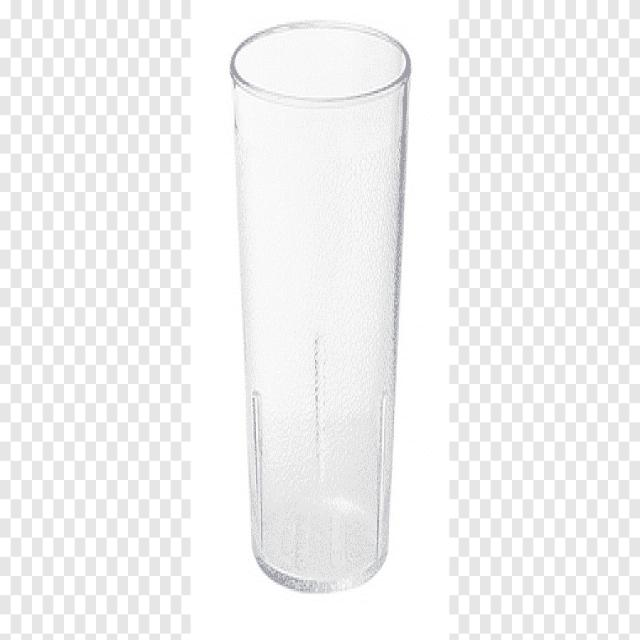Gelas: (215, 9, 422, 640)
